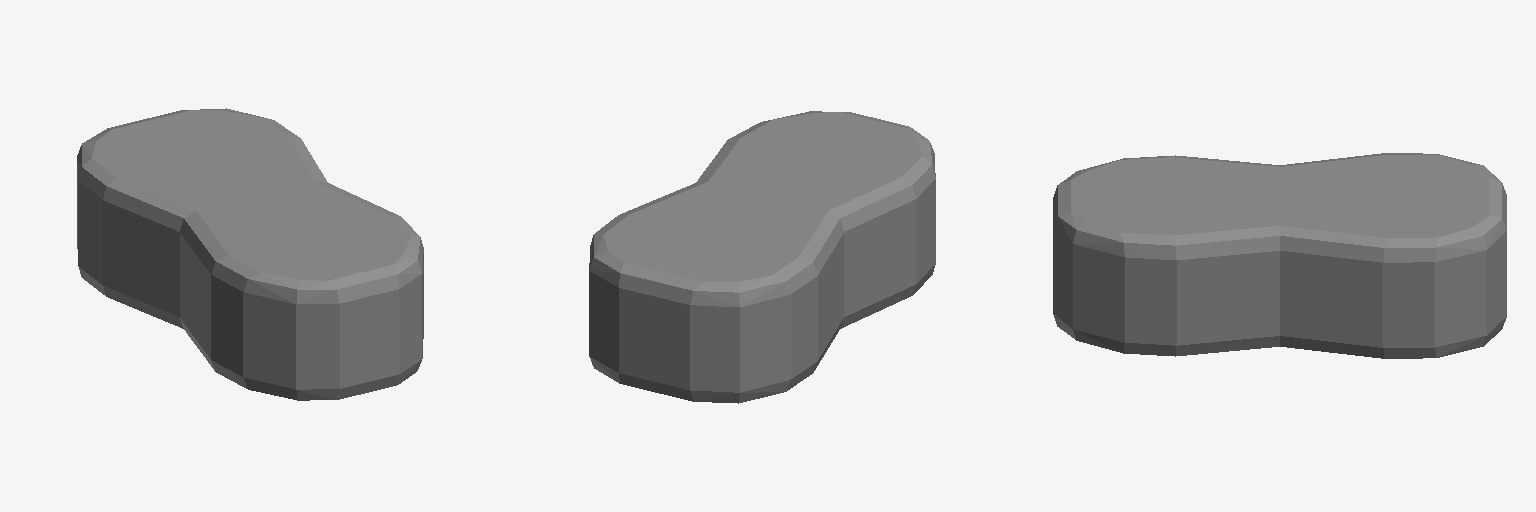
File: Sponge.obj
The picture shows the model from 3 angles: view 1: azimuth 30°, elevation 25°; view 2: azimuth 150°, elevation 25°; view 3: azimuth 270°, elevation 25°; orthographic projection.
Visible parts, largest first — view 1: Sponge; view 2: Sponge; view 3: Sponge.
Boxes of the visible parts, x1=… form: Sponge: x1=77, y1=108, x2=423, y2=400; Sponge: x1=589, y1=111, x2=935, y2=403; Sponge: x1=1053, y1=153, x2=1506, y2=358.
Size of the model in its own units: 12.44 by 7 by 24.13.